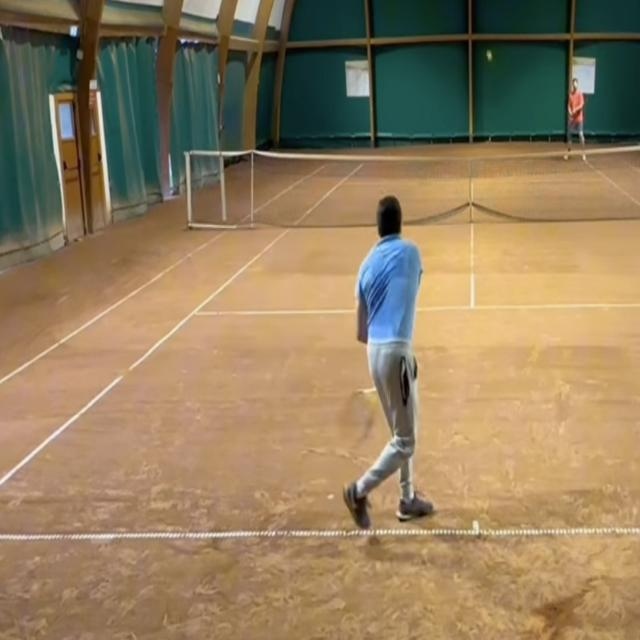ball: (487, 51, 492, 62)
